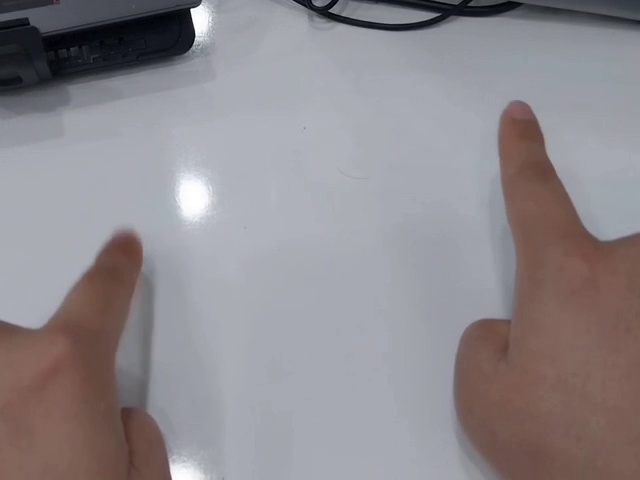fingers: (96, 230, 144, 283), (497, 100, 546, 147)
